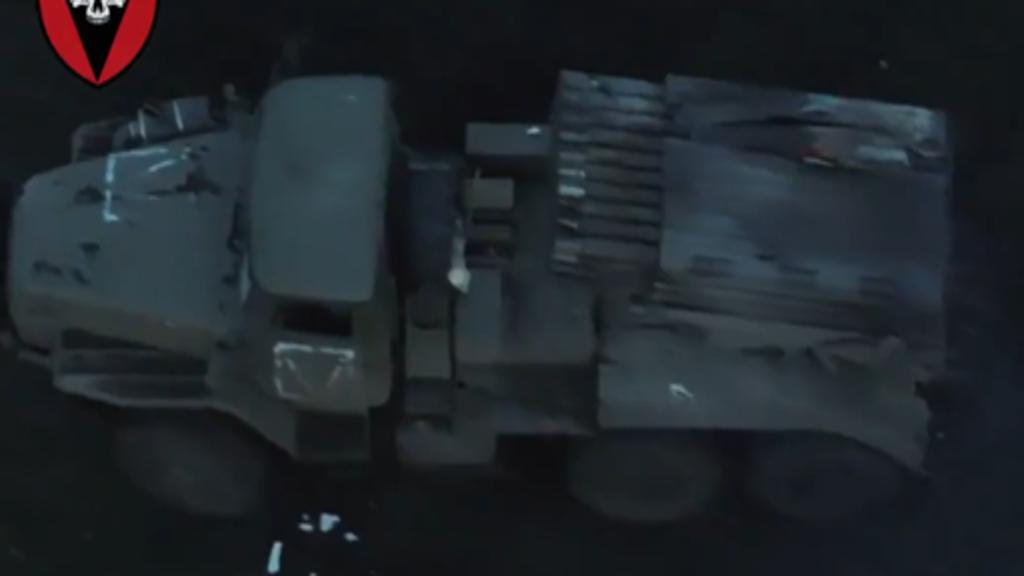MLRS: (0, 53, 958, 546)
